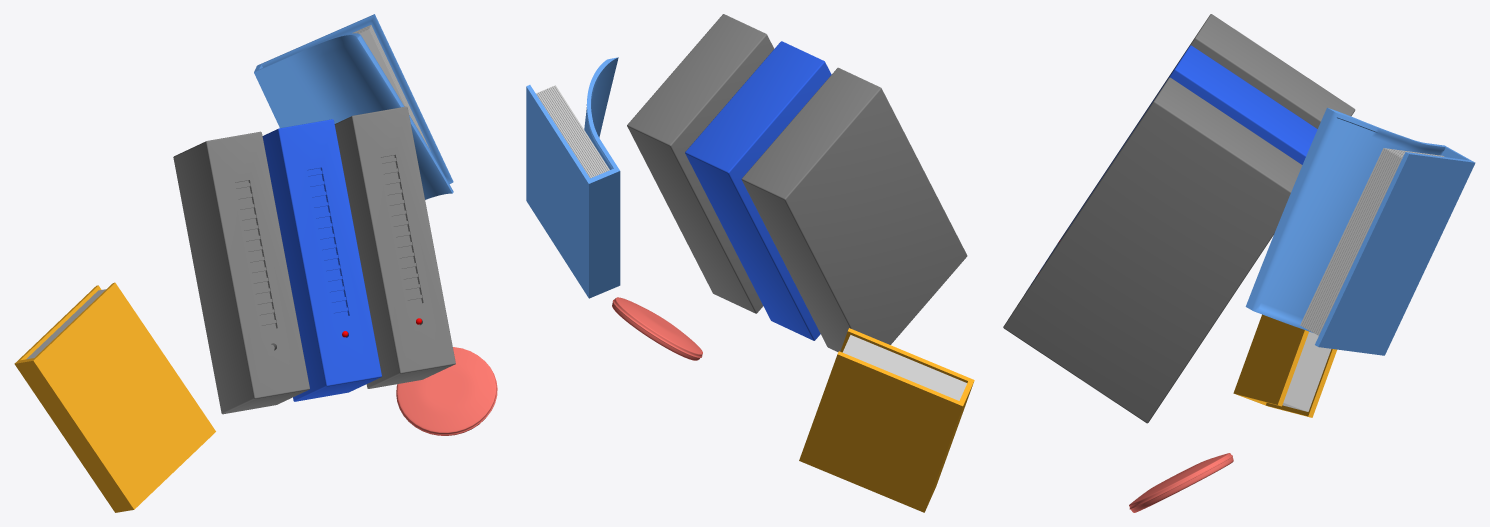
3 views of the same model, side by side, from view 1: azimuth 30°, elevation 25°; view 2: azimuth 150°, elevation 25°; view 3: azimuth 270°, elevation 25° (orthographic). The views are drawn at different scales.
Visible parts, largest first — view 1: 书_1, 布尔_1_2, 布尔_1, 布尔_1_3, 书_2, 印泥, 克隆, 克隆_3, 克隆_2, 克隆_1; view 2: 布尔_1_2, 书_1, 布尔_1, 布尔_1_3, 书_2, 克隆, 印泥; view 3: 布尔_1, 书_2, 书_1, 布尔_1_3, 布尔_1_2, 克隆, 印泥.
Boxes of the visible parts, x1,y1,x2,y2 form: 书_1: (14, 282, 215, 512); 布尔_1_2: (173, 131, 309, 414); 布尔_1: (334, 106, 455, 388); 布尔_1_3: (262, 119, 381, 401); 书_2: (254, 14, 453, 199); 印泥: (396, 347, 497, 435); 克隆: (352, 25, 430, 150); 克隆_3: (307, 170, 348, 313); 克隆_2: (235, 183, 276, 325); 克隆_1: (381, 158, 422, 300); 布尔_1_2: (741, 67, 967, 351); 书_1: (799, 328, 974, 512); 布尔_1: (627, 14, 774, 313); 布尔_1_3: (685, 41, 831, 340); 书_2: (526, 57, 620, 298); 克隆: (536, 85, 609, 178); 印泥: (612, 297, 702, 360); 布尔_1: (1003, 77, 1302, 423); 书_2: (1245, 107, 1475, 355); 书_1: (1233, 314, 1336, 417); 布尔_1_3: (1026, 45, 1317, 291); 布尔_1_2: (1049, 14, 1355, 256); 克隆: (1300, 148, 1444, 335); 印泥: (1129, 453, 1233, 512).
Size of the model in its own units: 376 by 327 by 312.
